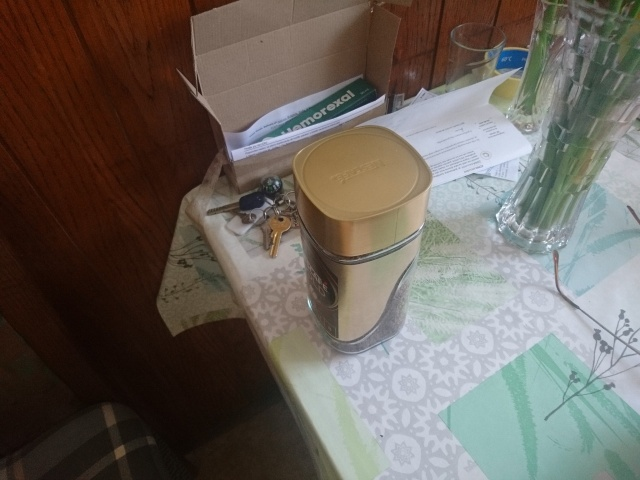Nescafe Gold 225g: (289, 123, 436, 358)
